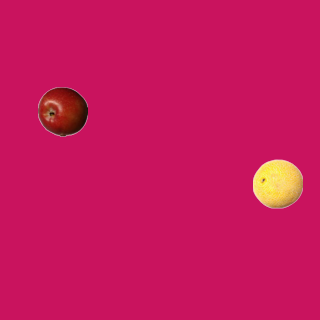Apple Braeburn: (37, 86, 87, 136)
Cantaloupe 1: (252, 158, 302, 208)
